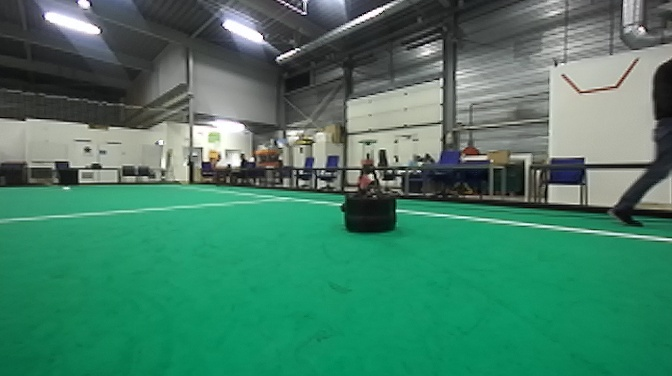robot: (335, 137, 403, 240)
